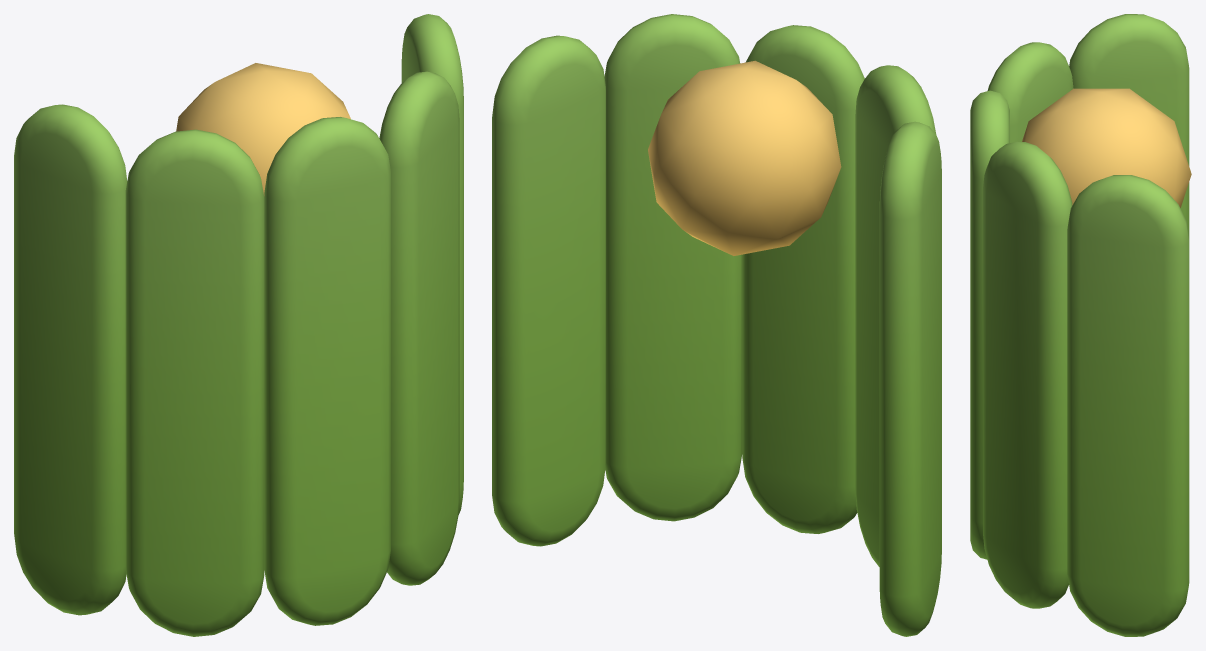
The model's file is Light_17.glb.
3 views of the same model, side by side, from view 1: azimuth 30°, elevation 25°; view 2: azimuth 150°, elevation 25°; view 3: azimuth 270°, elevation 25° (orthographic). The views are drawn at different scales.
Visible parts, largest first — view 1: Light_17; view 2: Light_17; view 3: Light_17.
Boxes of the visible parts, x1,y1,x2,y2 form: Light_17: [14, 14, 463, 636]; Light_17: [492, 14, 941, 636]; Light_17: [970, 14, 1191, 636].
Size of the model in its own units: 0.2821 by 0.3224 by 0.1399.
1 material, 1 textured.
